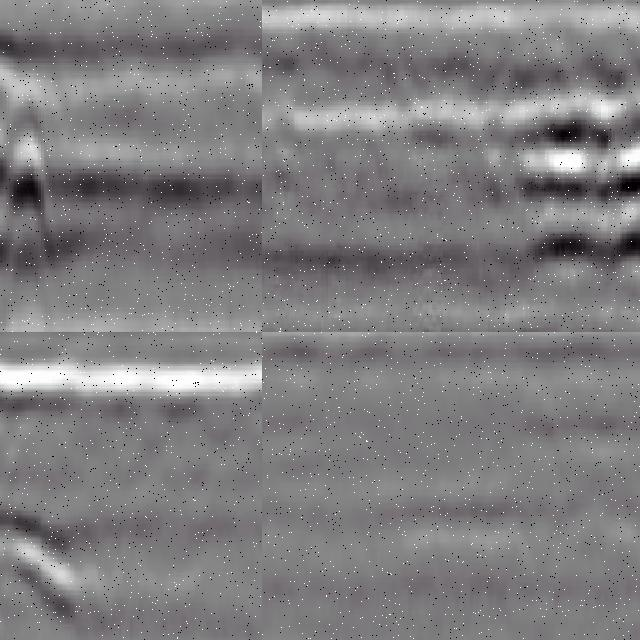loose: (490, 94, 640, 298), (1, 1, 73, 292), (1, 495, 104, 616)
